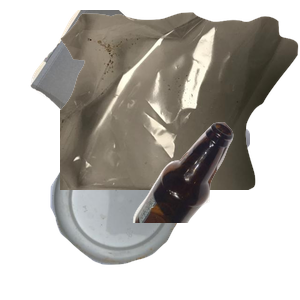glass: (130, 120, 300, 300)
paper: (28, 10, 268, 190)
plastic: (48, 132, 224, 300)
trash: (60, 10, 300, 190)
